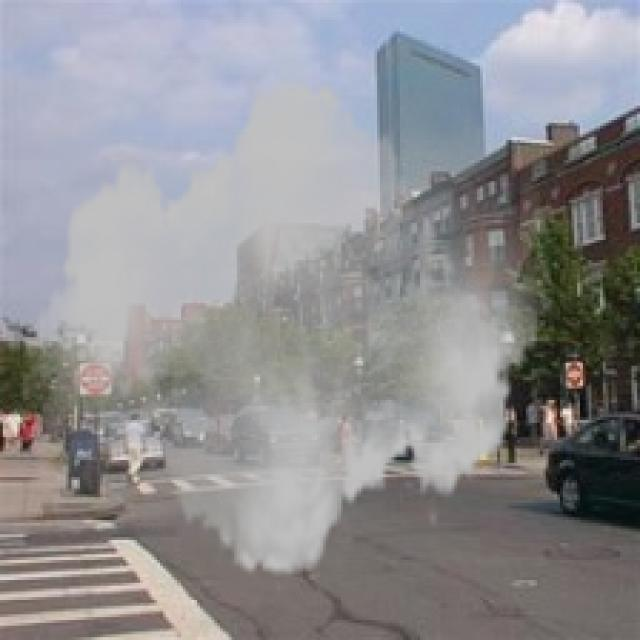smoke: (23, 60, 551, 597)
